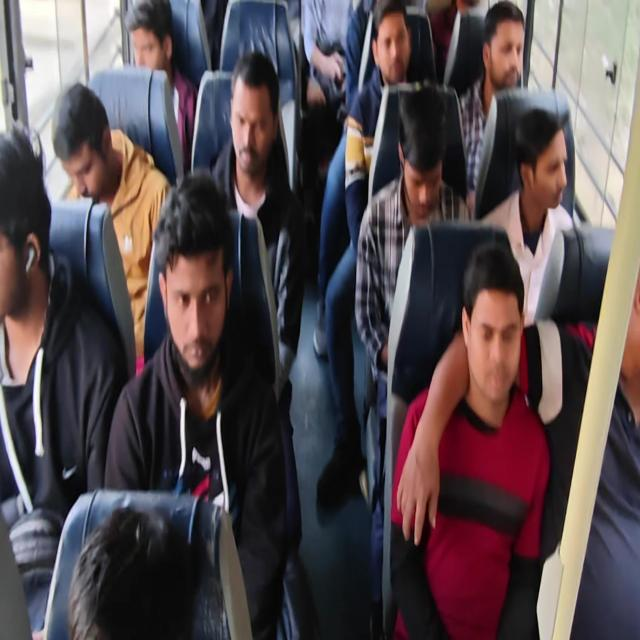person: (58, 507, 235, 640), (154, 168, 234, 392), (0, 111, 60, 335), (50, 72, 124, 201), (464, 242, 518, 417), (503, 111, 574, 224), (394, 84, 448, 226), (229, 43, 275, 187), (122, 0, 176, 86), (480, 1, 524, 90), (372, 5, 413, 83), (624, 250, 640, 395)
